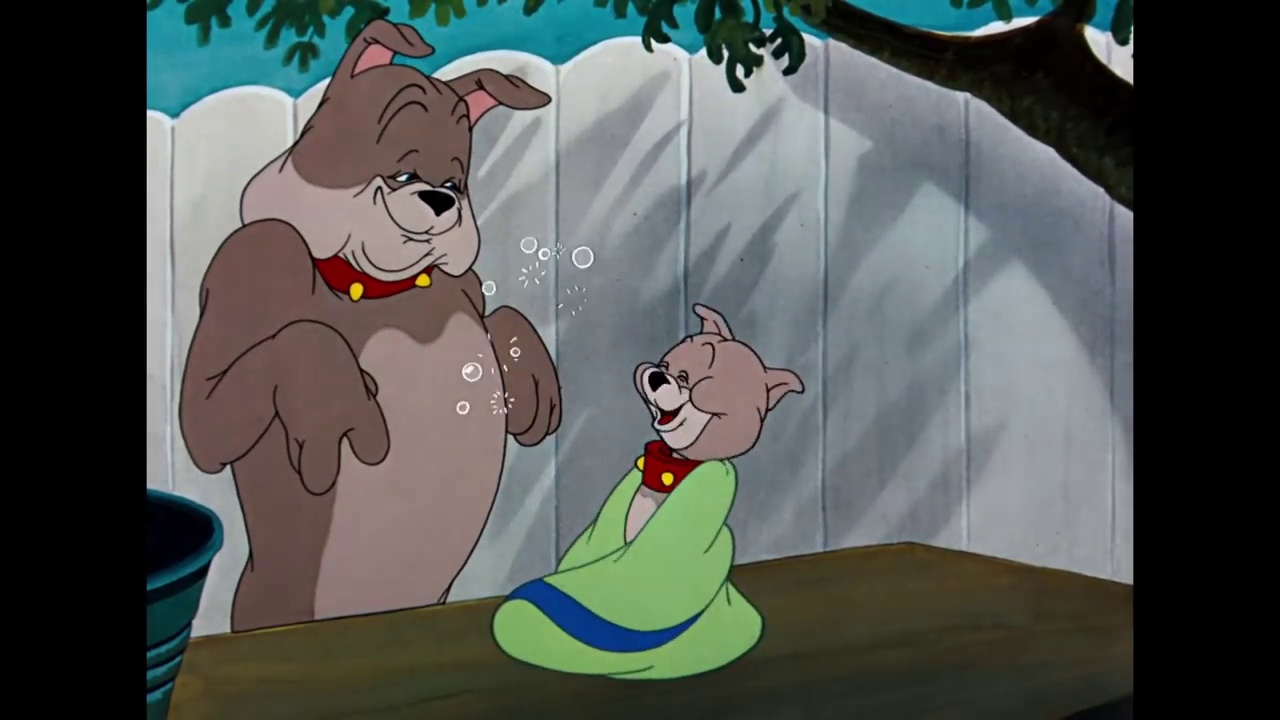spike: (242, 13, 556, 307)
